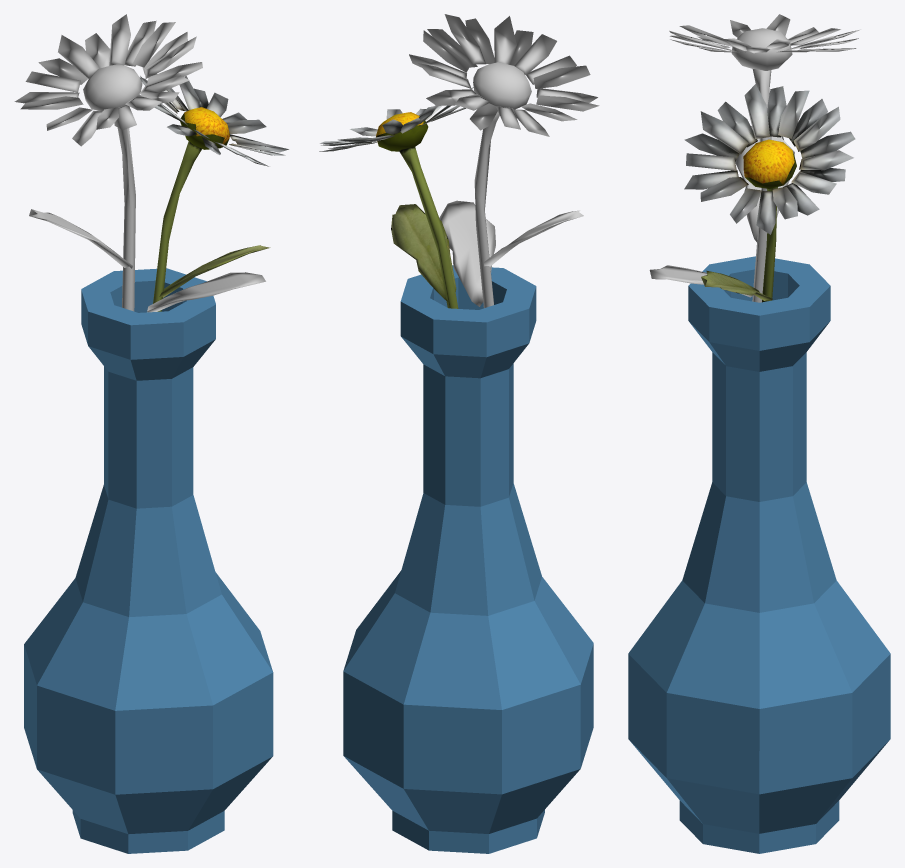
File: vase.fbx
3 views of the same model, side by side, from view 1: azimuth 30°, elevation 25°; view 2: azimuth 150°, elevation 25°; view 3: azimuth 270°, elevation 25° (orthographic).
Parts seen in each view (by area): view 1: Cylinder, 10441_Daisy_v1_SG; view 2: Cylinder, 10441_Daisy_v1_SG; view 3: Cylinder, 10441_Daisy_v1_SG.
Boxes of the visible parts, <box> form: Cylinder: <box>24,268,273,853</box>; 10441_Daisy_v1_SG: <box>14,14,288,312</box>; Cylinder: <box>343,265,593,853</box>; 10441_Daisy_v1_SG: <box>319,14,599,308</box>; Cylinder: <box>628,256,890,853</box>; 10441_Daisy_v1_SG: <box>649,14,860,302</box>.
Size of the model in its own units: 0.4481 by 1.34 by 0.4.
